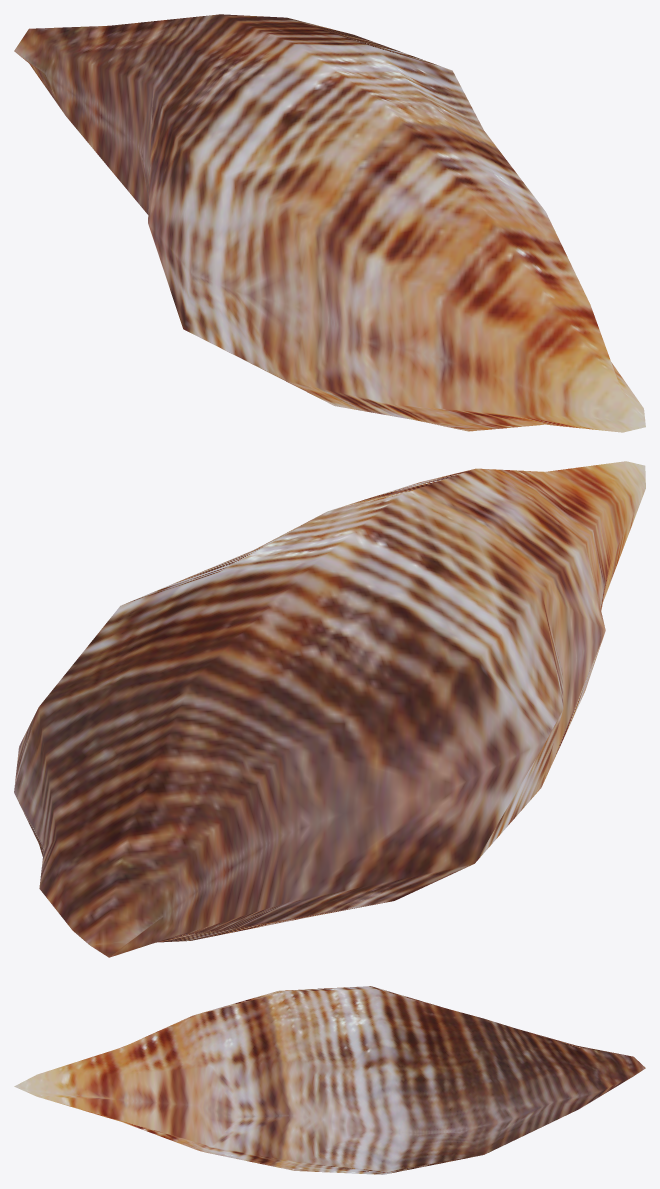
The model's file is SeaShell-09_LOD0_Small.glb.
3 views of the same model, one above another, from view 1: azimuth 30°, elevation 25°; view 2: azimuth 150°, elevation 25°; view 3: azimuth 270°, elevation 25° (orthographic). The views are drawn at different scales.
Visible parts, largest first — view 1: SeaShell-09_high; view 2: SeaShell-09_high; view 3: SeaShell-09_high.
Part boxes in pixels (x1,y1,x2,y2): SeaShell-09_high: [14, 14, 645, 432]; SeaShell-09_high: [14, 461, 645, 957]; SeaShell-09_high: [14, 986, 645, 1174].
Size of the model in its own units: 0.0114 by 0.00958 by 0.0311.
1 material, 1 textured.
